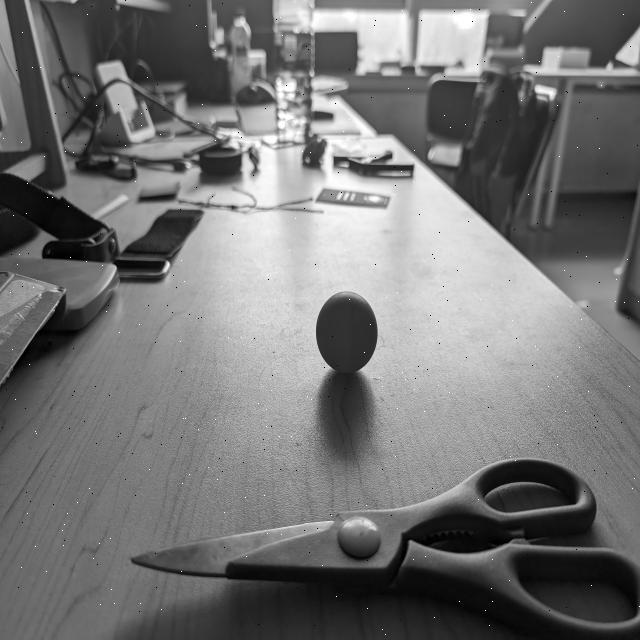ping-pong-ball: (315, 290, 378, 374)
